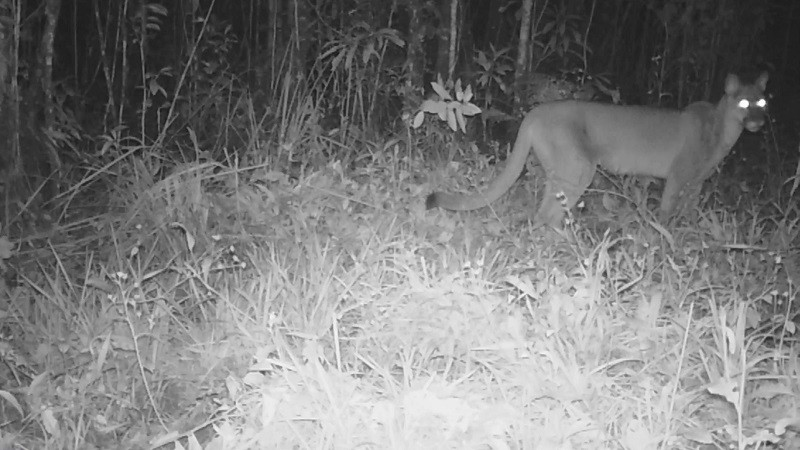OncaParda: (417, 69, 776, 236)
